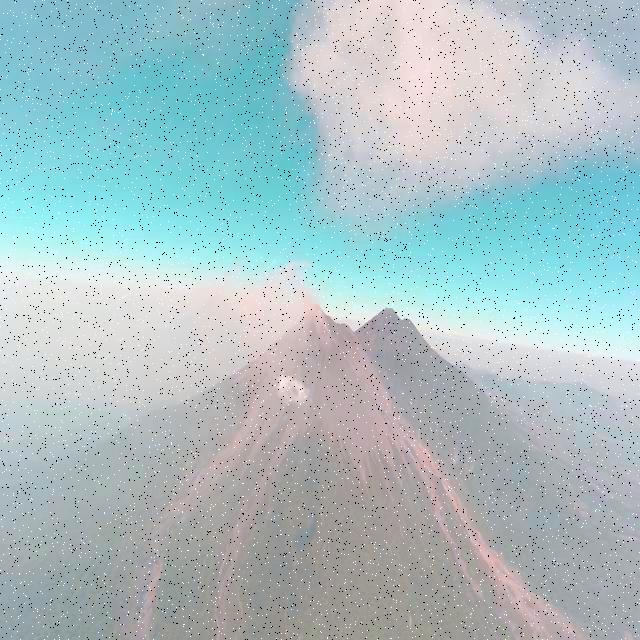Plume: (285, 0, 633, 252), (205, 256, 323, 360)
Summit: (296, 302, 326, 322)
